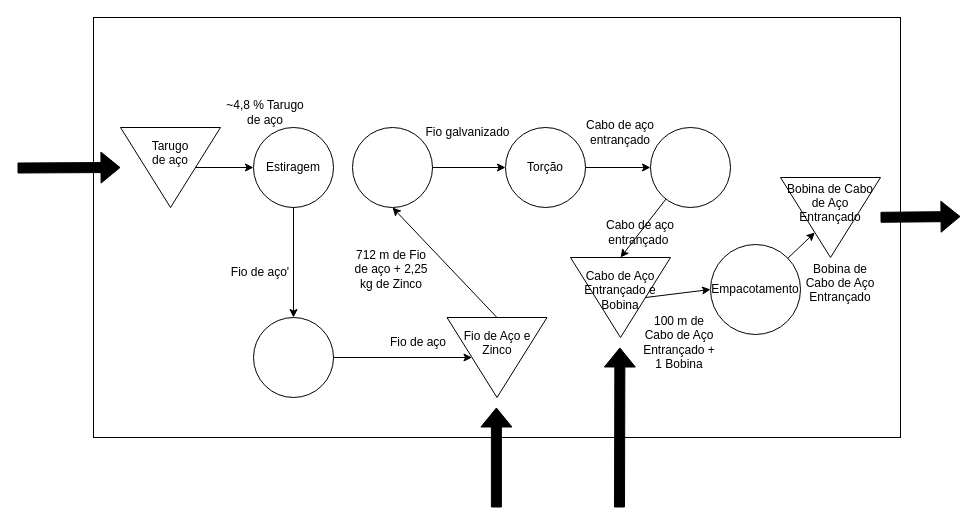
Image size: 978x525. Some labels were removed from this diagram. The shapes that lost their labels are listed below. From the top down, each one's centre as x and y in pixels, then its label:
At (392,167): "Galvanização".
At (690,167): "Corte".
At (293,357): "Pré-tratamento".
